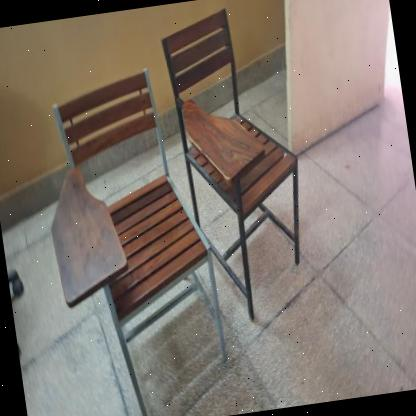chair: (15, 57, 238, 416), (150, 0, 326, 329)
